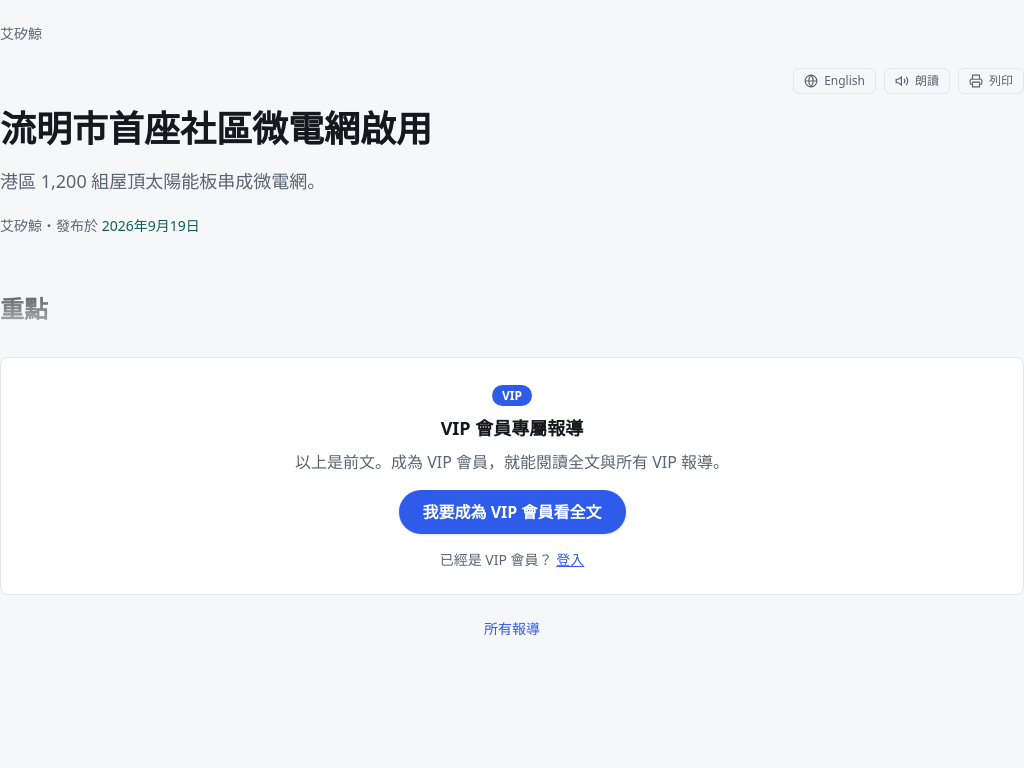
Test: the article page › a members-only article shows its opening and both ways in (D-025)
The width and height of the screenshot is (1024, 768).
Check: the heading "重點" is shown, box [0, 292, 48, 325]
Check: the element with test id "members-only" shows "VIP 會員專屬報導", box [441, 416, 583, 440]
Click the button "我要成為 VIP 會員看全文" at (512, 512), box [398, 490, 626, 534]
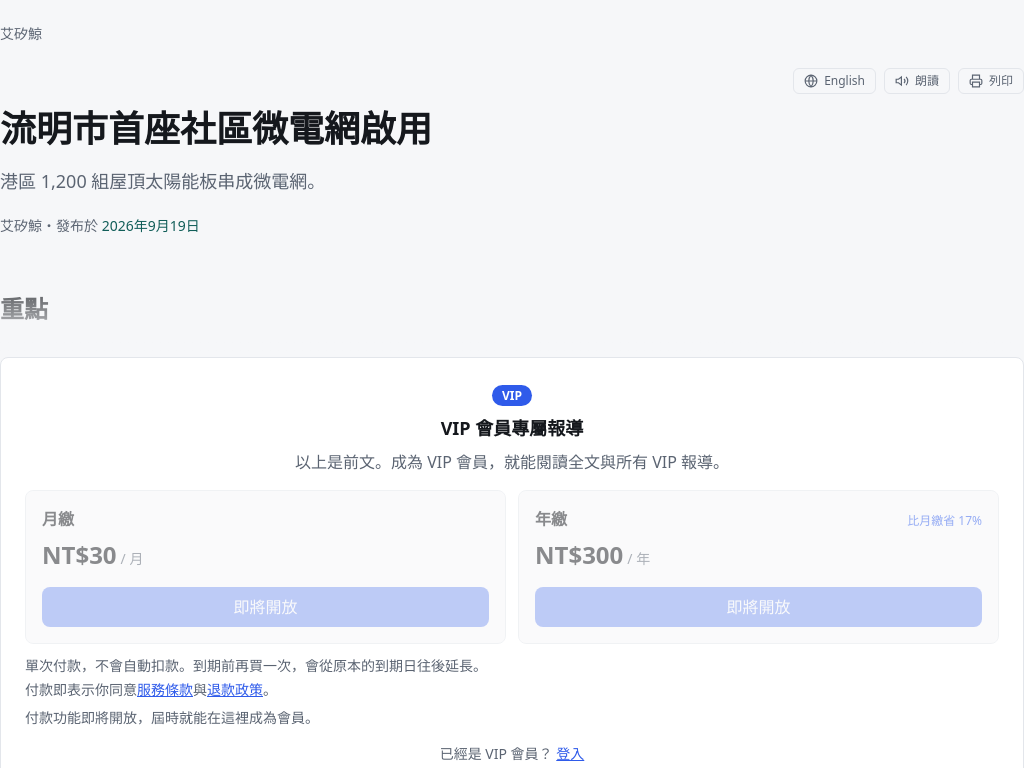
Check: the element with test id "members-only" shows "已經是 VIP 會員？", box [440, 744, 553, 763]
Check: the element with test id "members-only" shows "NT$300", box [535, 538, 623, 571]
Check: the element with test id "members-only" shows "NT$30", box [42, 538, 117, 571]
